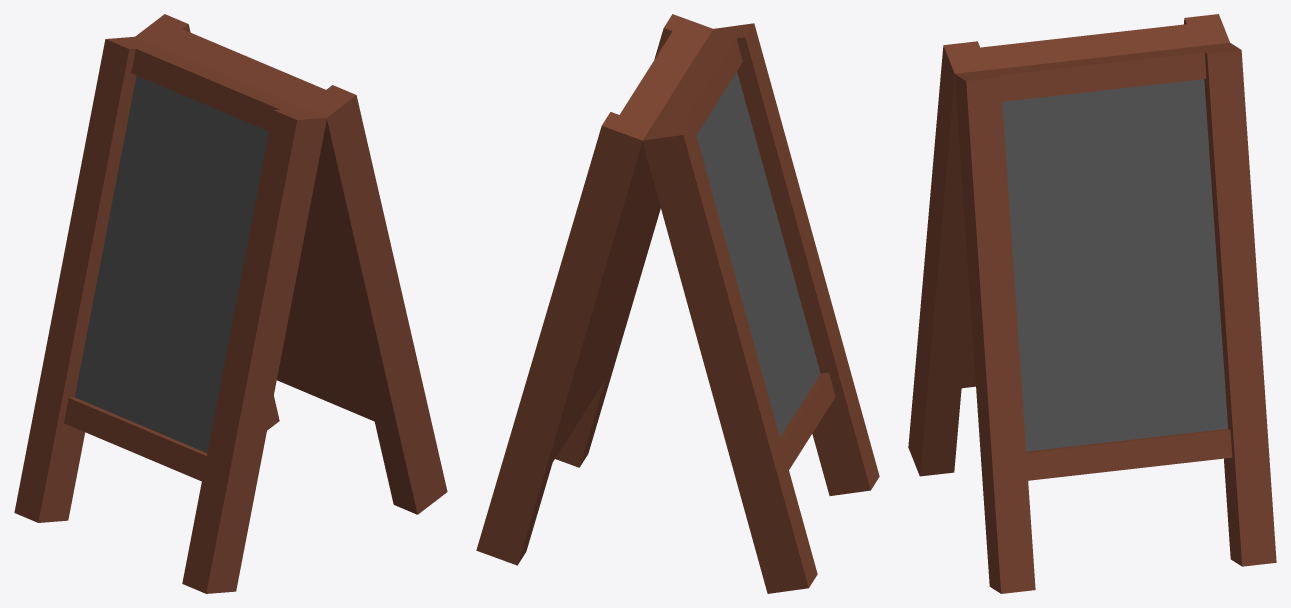
Rendered from menustand.fbx.
3 views of the same model, side by side, from view 1: azimuth 30°, elevation 25°; view 2: azimuth 150°, elevation 25°; view 3: azimuth 270°, elevation 25° (orthographic). The views are drawn at different scales.
Visible parts, largest first — view 1: pCube107; view 2: pCube107; view 3: pCube107.
Boxes of the visible parts, x1,y1,x2,y2 form: pCube107: (14,14,447,593); pCube107: (476,14,879,593); pCube107: (908,14,1276,593).
Bounding box in the file's own units: 2.39 × 2.94 × 2.09.
